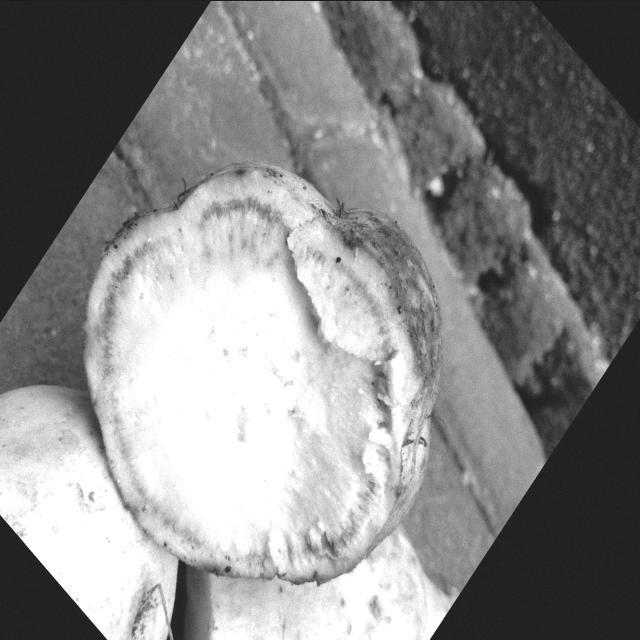Healthy Sweet Potato: (84, 163, 418, 582)
